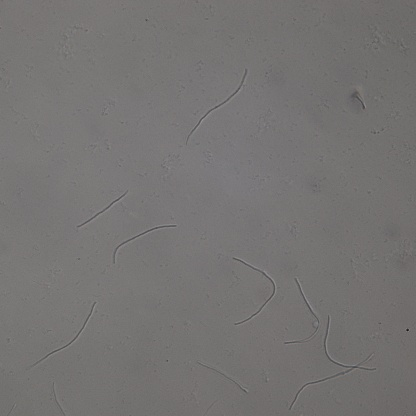Sensitive: (287, 317, 377, 410), (27, 300, 97, 370), (186, 69, 248, 144), (232, 257, 276, 328), (111, 223, 176, 263), (283, 278, 321, 346), (75, 188, 129, 228), (195, 362, 246, 393)
